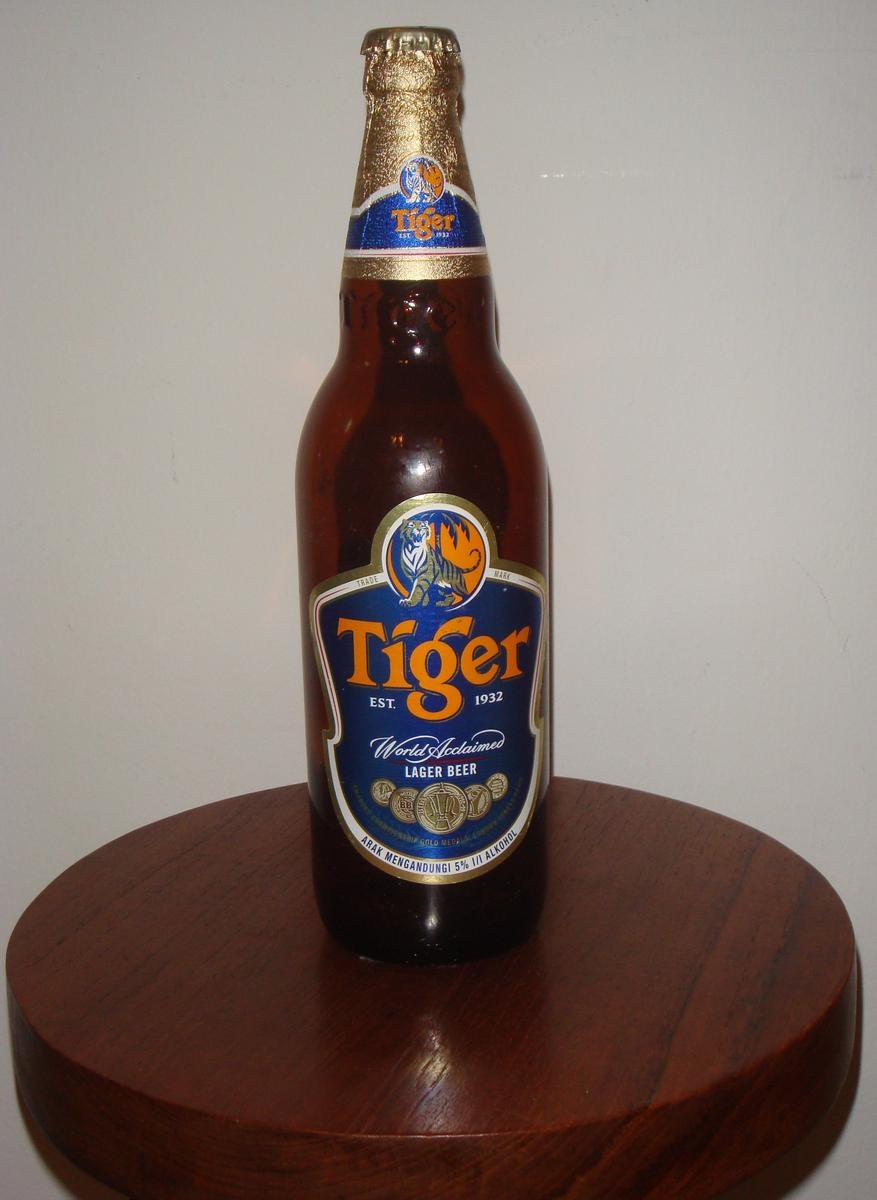beerBottle: (297, 26, 549, 951)
